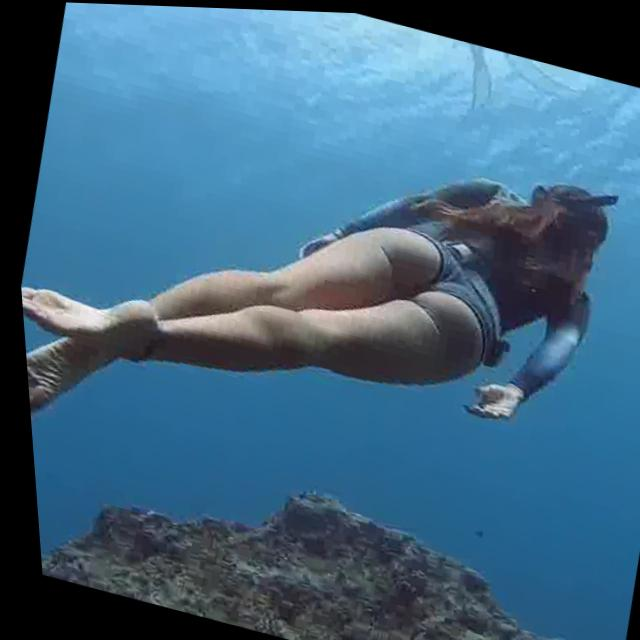human: (2, 36, 640, 572)
